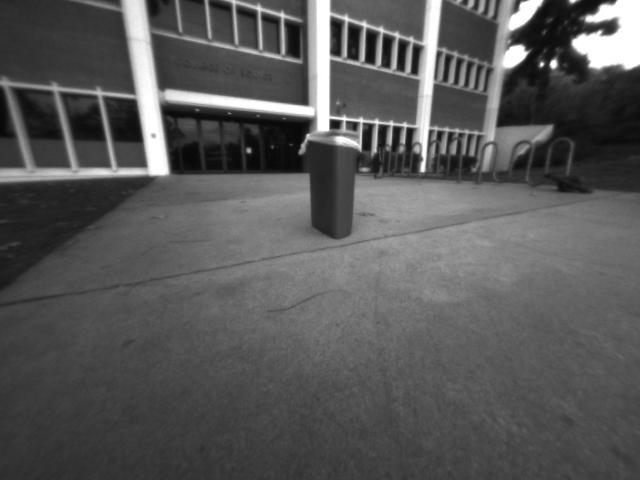trashcan_open: (301, 129, 361, 242)
